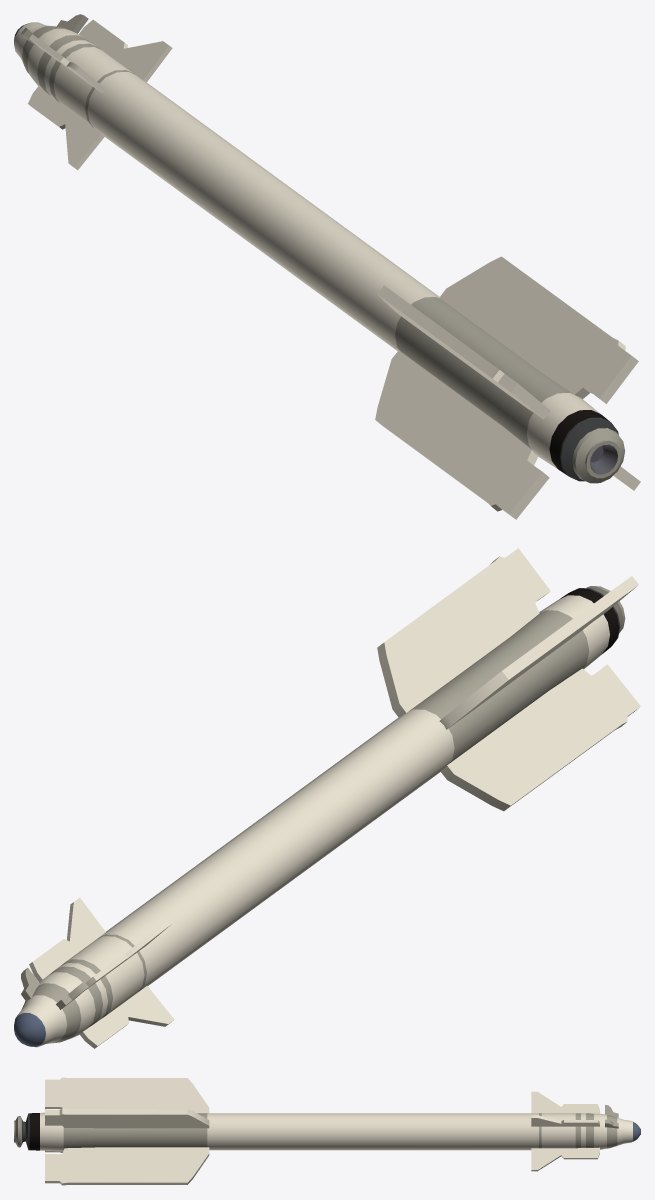
3 renders of one model, top to bottom at view 1: azimuth 30°, elevation 25°; view 2: azimuth 150°, elevation 25°; view 3: azimuth 270°, elevation 25°, orthographic. The views are drawn at different scales.
Visible parts, largest first — view 1: r73; view 2: r73; view 3: r73.
Part boxes in pixels (box(x1,y1,x2,y2)): r73: box(14, 14, 640, 519); r73: box(14, 548, 640, 1048); r73: box(14, 1077, 640, 1185).
Bounding box in the file's own units: 0.4013 × 0.3957 × 2.95.
